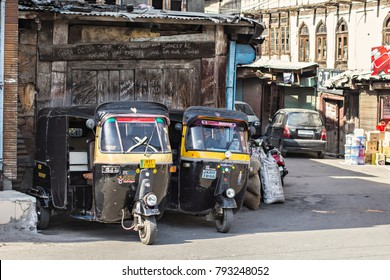car: (264, 108, 328, 156)
threewheel: (30, 100, 175, 245), (168, 106, 250, 233)
